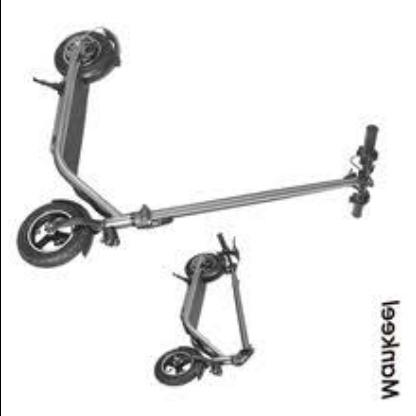bike: (16, 22, 394, 389), (17, 26, 391, 271), (153, 232, 255, 387)
